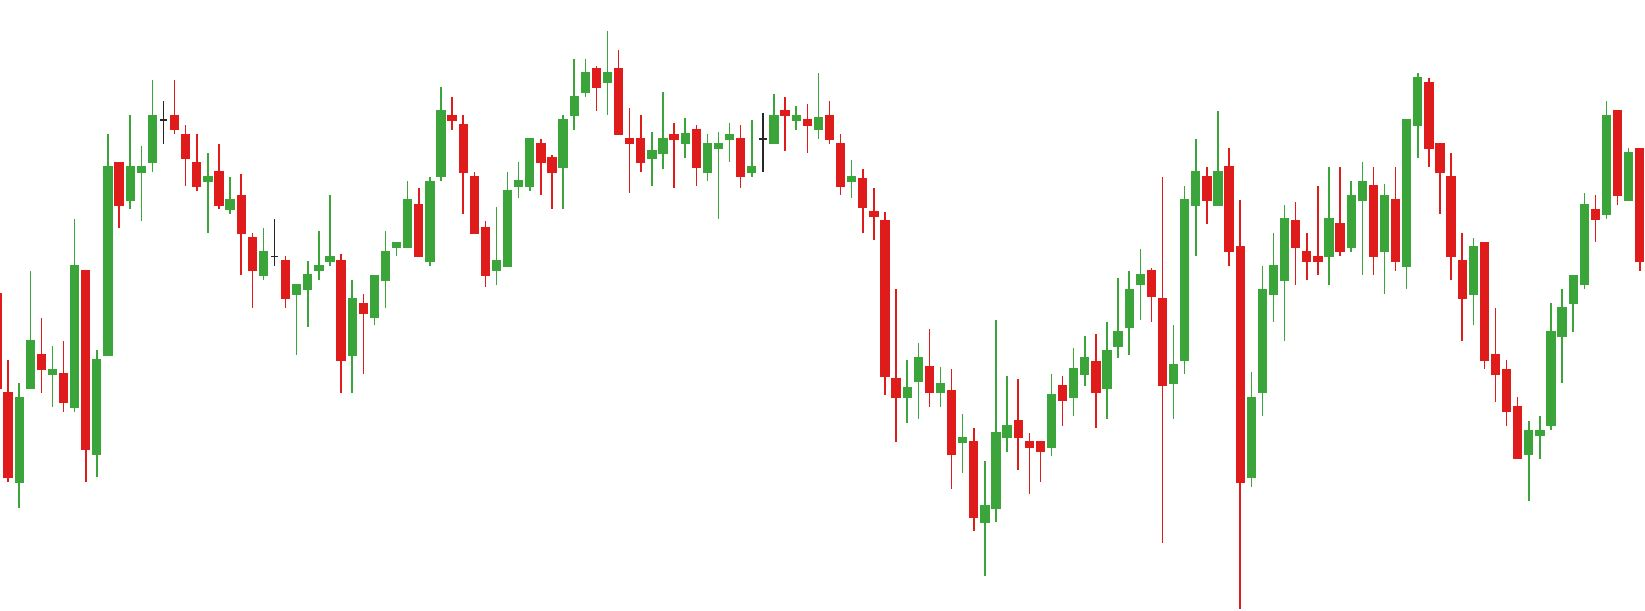buy: (1153, 289, 1258, 607), (293, 243, 360, 399)
sell: (1211, 67, 1435, 222), (431, 30, 626, 190)
